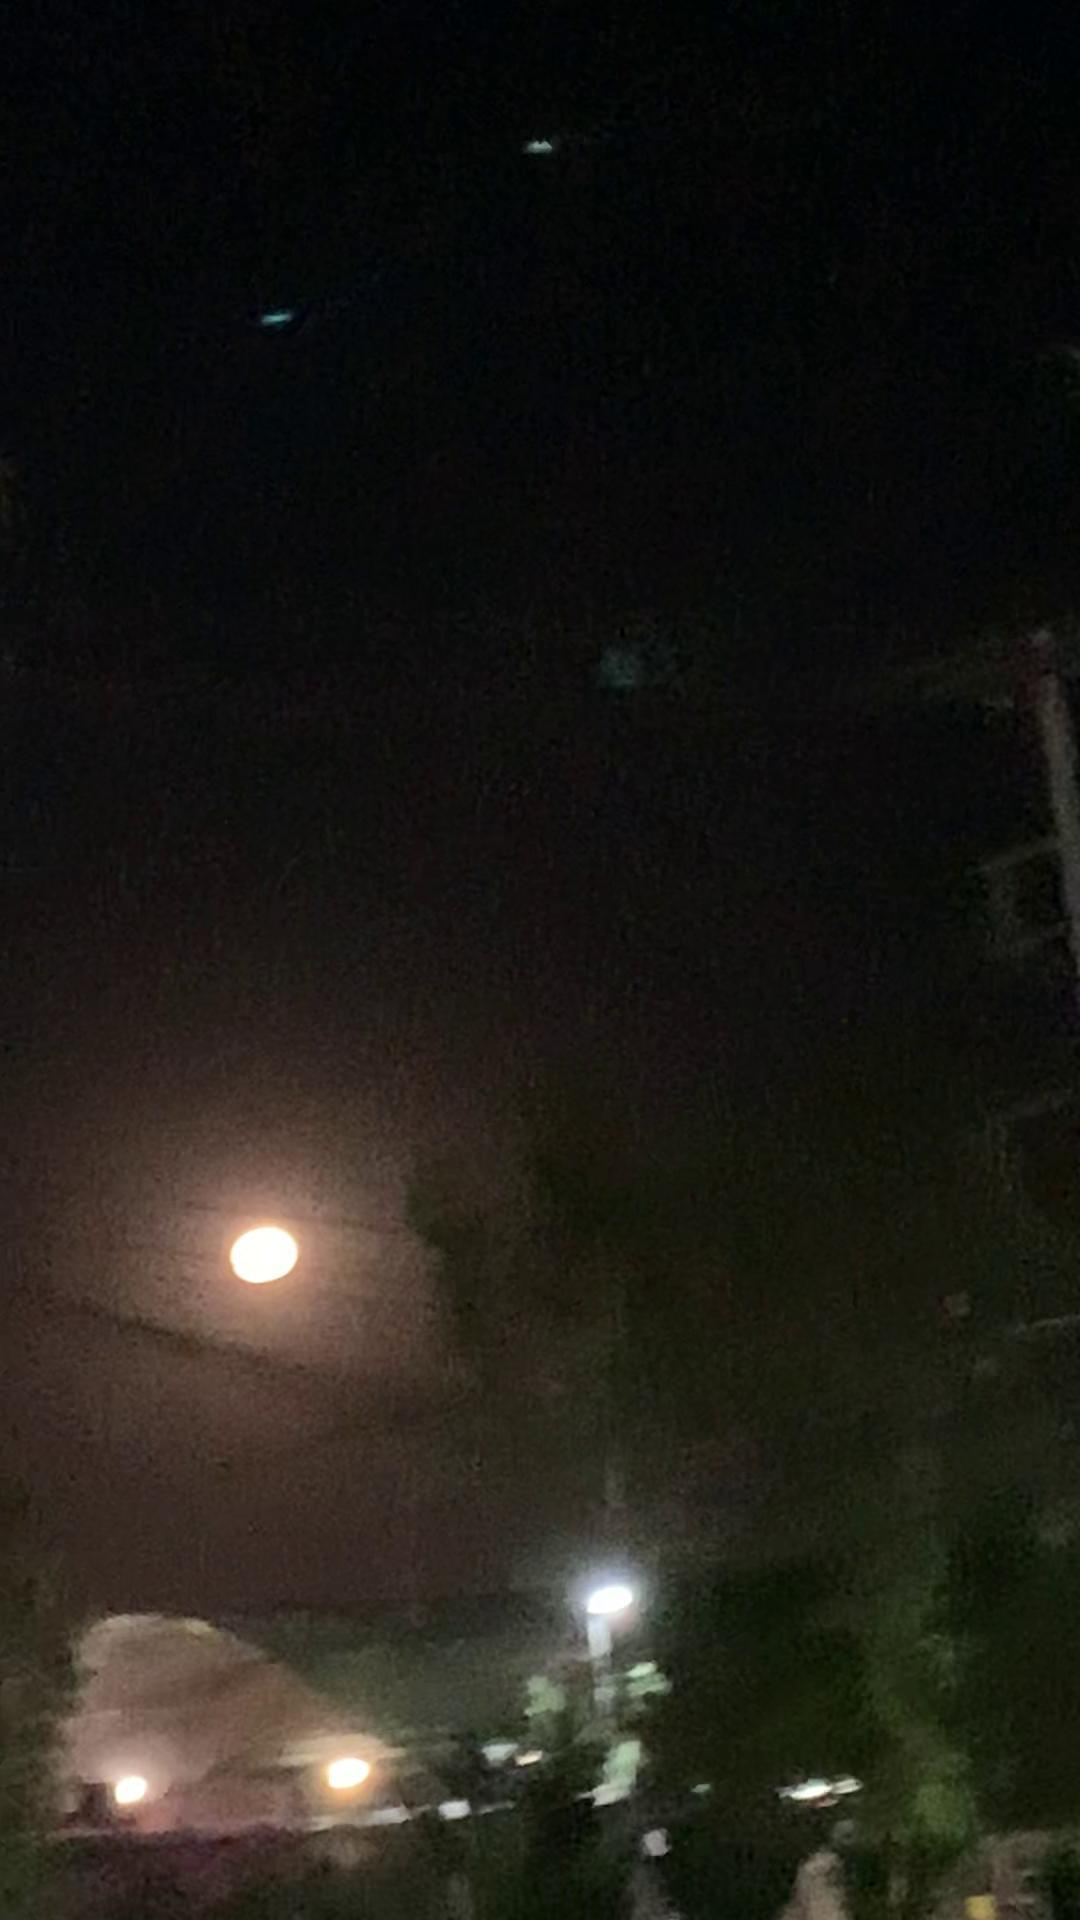moon: (207, 1216, 305, 1298)
